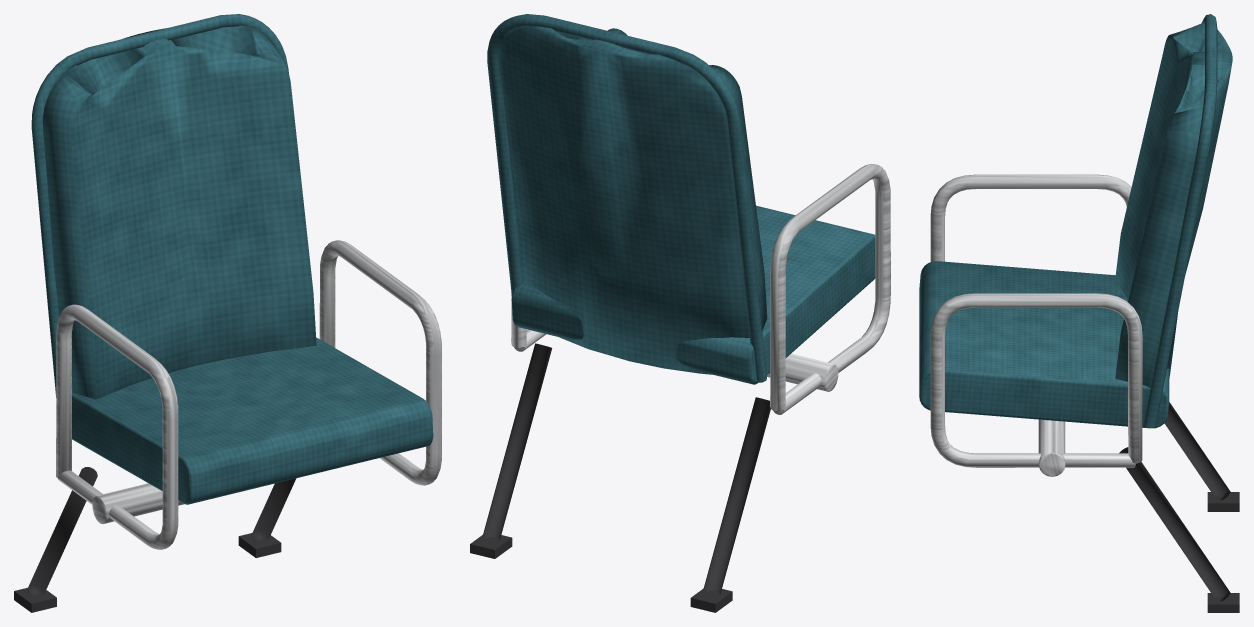
File: amphi_siege.fbx
3 views of the same model, side by side, from view 1: azimuth 30°, elevation 25°; view 2: azimuth 150°, elevation 25°; view 3: azimuth 270°, elevation 25° (orthographic). The views are drawn at different scales.
Parts seen in each view (by area): view 1: SIEGE_LOD0; view 2: SIEGE_LOD0; view 3: SIEGE_LOD0.
Boxes of the visible parts, x1=… form: SIEGE_LOD0: x1=14, y1=14, x2=441, y2=612; SIEGE_LOD0: x1=470, y1=14, x2=890, y2=612; SIEGE_LOD0: x1=919, y1=14, x2=1239, y2=612.
Size of what is drawn, in the model's own units: 58 by 108 by 61.67.
